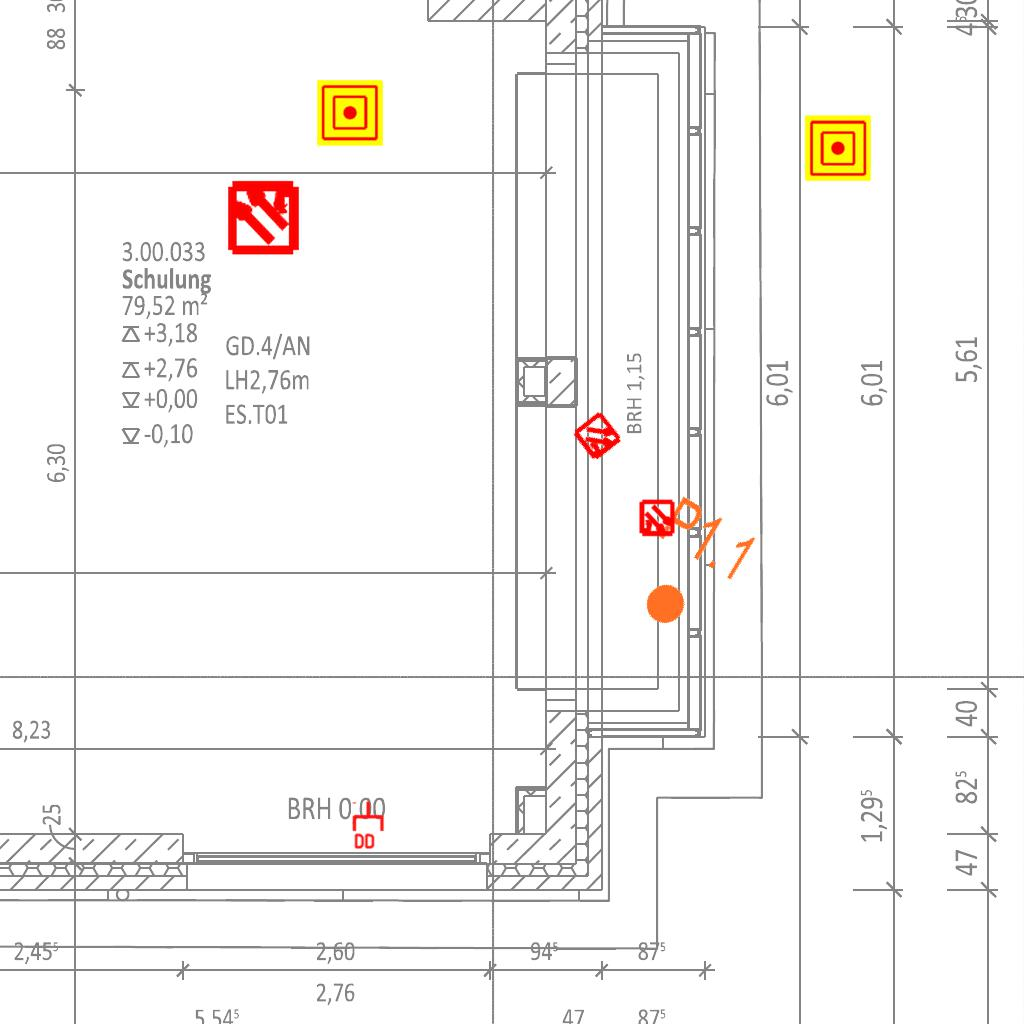Datenanschluss_zweifach: (352, 800, 386, 851)
Downlight_LED_Einbauleuchten_Flur: (616, 491, 763, 649)
NAM-Nichtautomatischer_Melder: (317, 80, 383, 146), (805, 115, 871, 181)
OT_Multisensormelder_(Kombination_RMO_WMD): (207, 159, 320, 272), (558, 397, 638, 477), (629, 491, 685, 547)
